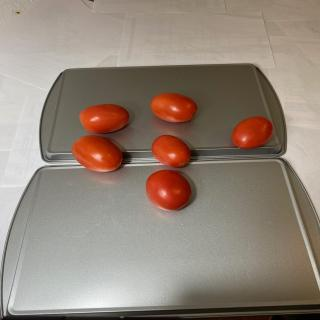Tomato: (146, 169, 192, 211), (71, 135, 123, 172), (79, 104, 130, 134), (232, 116, 274, 150), (150, 92, 197, 122), (151, 134, 191, 168)
